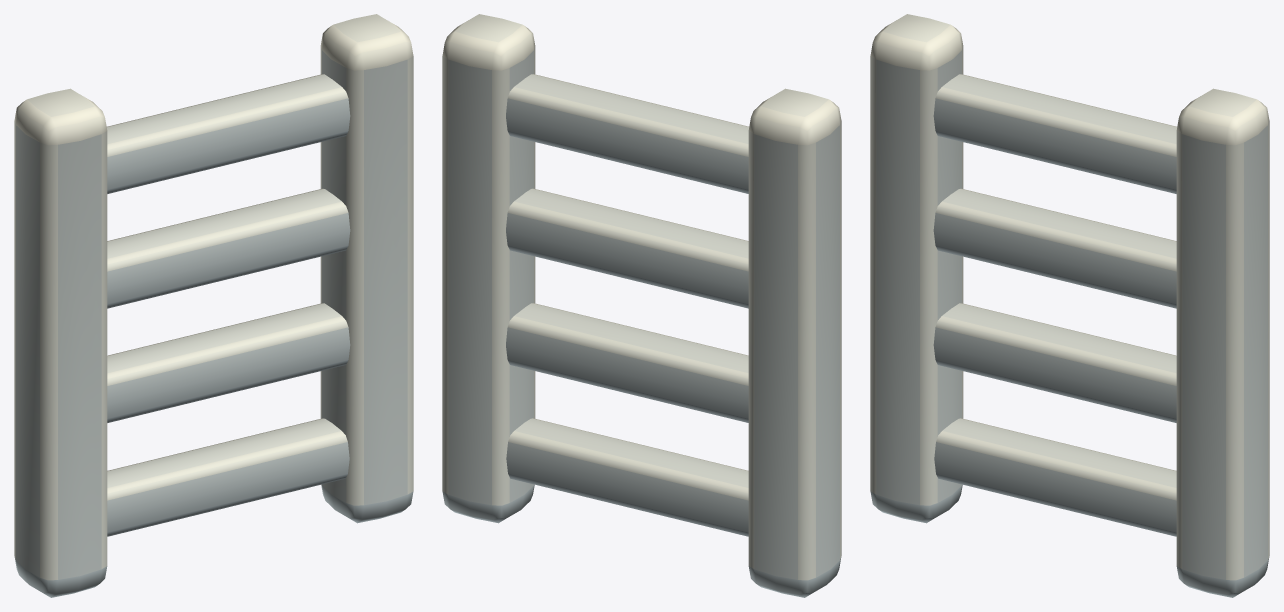
Rendered from Quartz_Ladder_Light.fbx.
3 renders of one model, left to right at view 1: azimuth 30°, elevation 25°; view 2: azimuth 150°, elevation 25°; view 3: azimuth 330°, elevation 25°, orthographic.
Visible parts, largest first — view 1: Quartz_Ladder_Light_LOD0; view 2: Quartz_Ladder_Light_LOD0; view 3: Quartz_Ladder_Light_LOD0.
Boxes of the visible parts, <box> form: Quartz_Ladder_Light_LOD0: <box>14,14,413,597</box>; Quartz_Ladder_Light_LOD0: <box>442,14,841,597</box>; Quartz_Ladder_Light_LOD0: <box>870,14,1269,597</box>.
Size of what is drawn, in the model's own units: 0.8613 by 1.05 by 0.1617.
